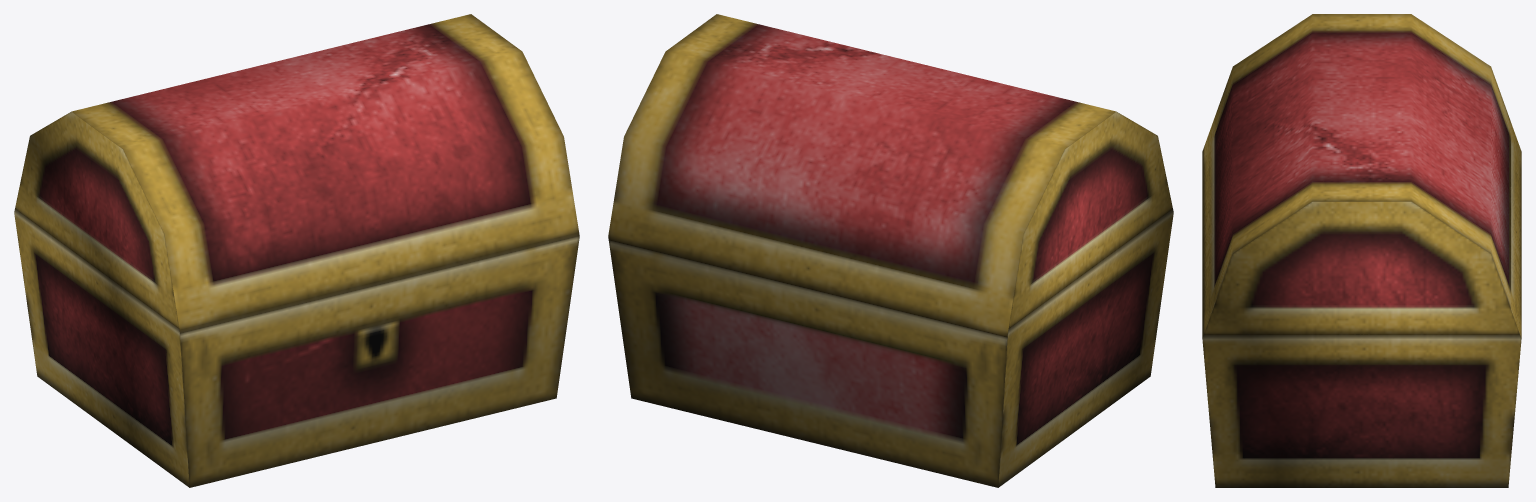
File: Chestclosed_atlas.fbx
3 views of the same model, side by side, from view 1: azimuth 30°, elevation 25°; view 2: azimuth 150°, elevation 25°; view 3: azimuth 270°, elevation 25° (orthographic). The views are drawn at different scales.
Visible parts, largest first — view 1: pCylinder3; view 2: pCylinder3; view 3: pCylinder3.
Part boxes in pixels (x1=…): pCylinder3: x1=14, y1=14, x2=579, y2=487; pCylinder3: x1=608, y1=14, x2=1173, y2=487; pCylinder3: x1=1202, y1=14, x2=1521, y2=487.
Size of the model in its own units: 0.6428 by 0.4701 by 0.4622.
